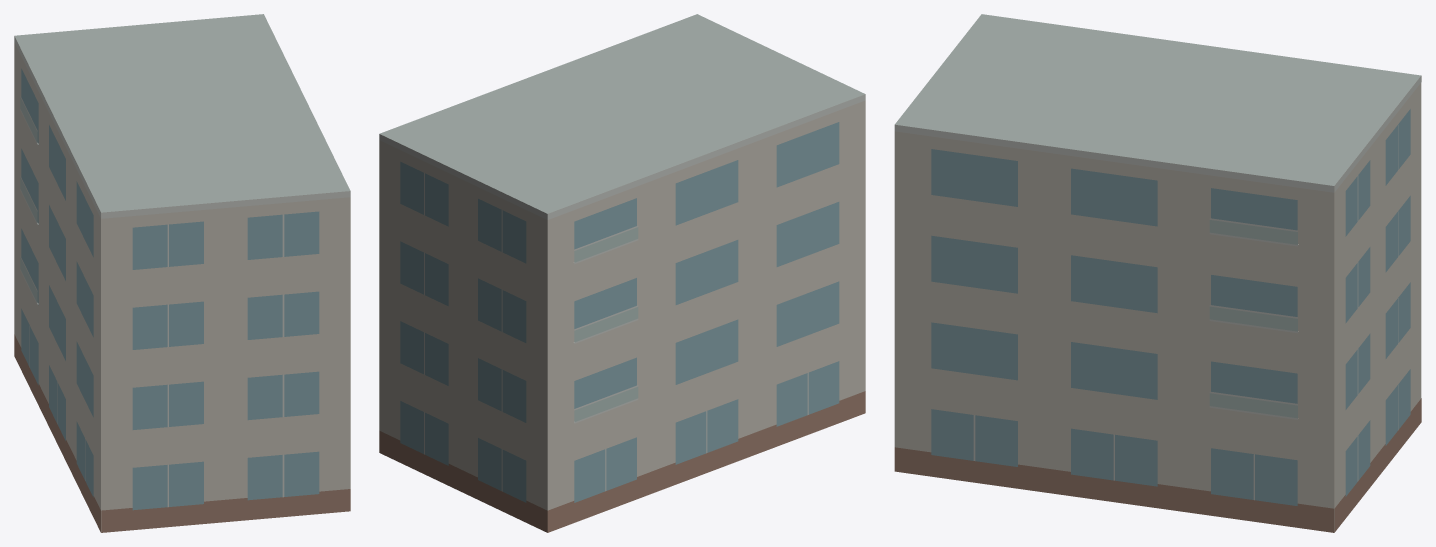
Rendered from survey-upis-32890820.glb.
The picture shows the model from 3 angles, left to right: view 1: azimuth 30°, elevation 25°; view 2: azimuth 150°, elevation 25°; view 3: azimuth 270°, elevation 25°; orthographic projection. The views are drawn at different scales.
Parts seen in each view (by area): view 1: survey-upis-32890820.tmp; view 2: survey-upis-32890820.tmp; view 3: survey-upis-32890820.tmp.
Boxes of the visible parts, <box> form: survey-upis-32890820.tmp: <box>14,14,350,532</box>; survey-upis-32890820.tmp: <box>379,14,865,532</box>; survey-upis-32890820.tmp: <box>894,14,1421,532</box>.
Bounding box in the file's own units: 13.41 × 12.6 × 17.36.
